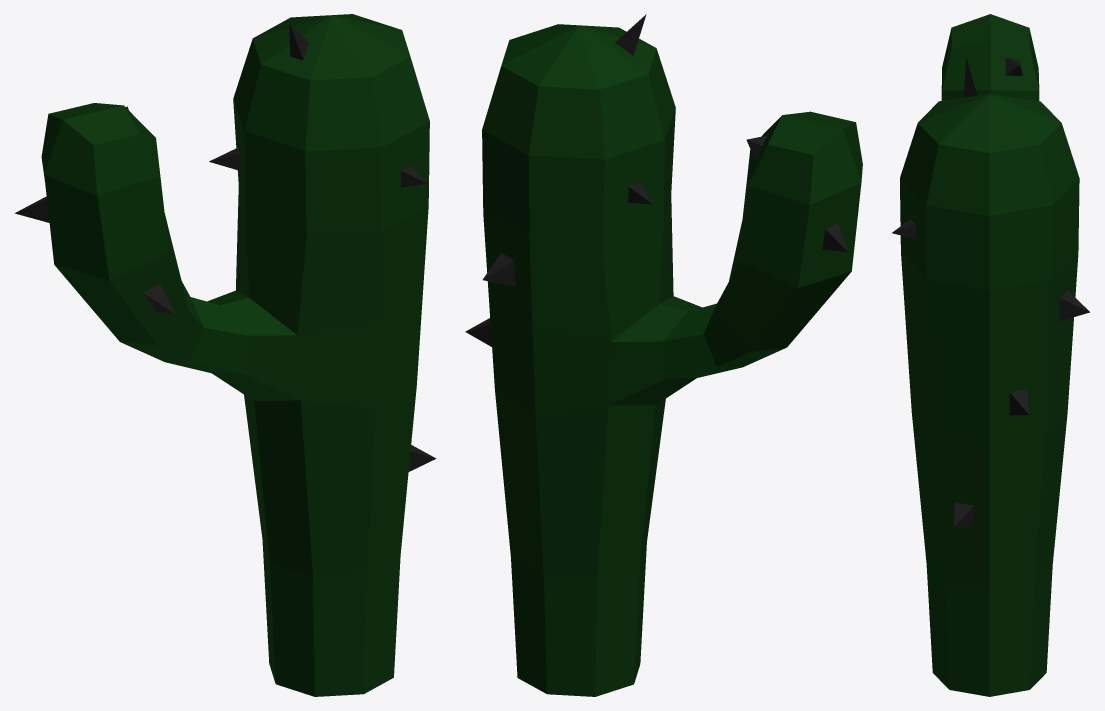
Rendered from Cactus.fbx.
3 renders of one model, left to right at view 1: azimuth 30°, elevation 25°; view 2: azimuth 150°, elevation 25°; view 3: azimuth 270°, elevation 25°, orthographic. The views are drawn at different scales.
Parts seen in each view (by area): view 1: Cactus; view 2: Cactus; view 3: Cactus.
Boxes of the visible parts, x1,y1,x2,y2 form: Cactus: (14,14,436,696); Cactus: (465,14,862,696); Cactus: (892,14,1089,696).
Size of the model in its own units: 1.14 by 1.88 by 0.5741.
